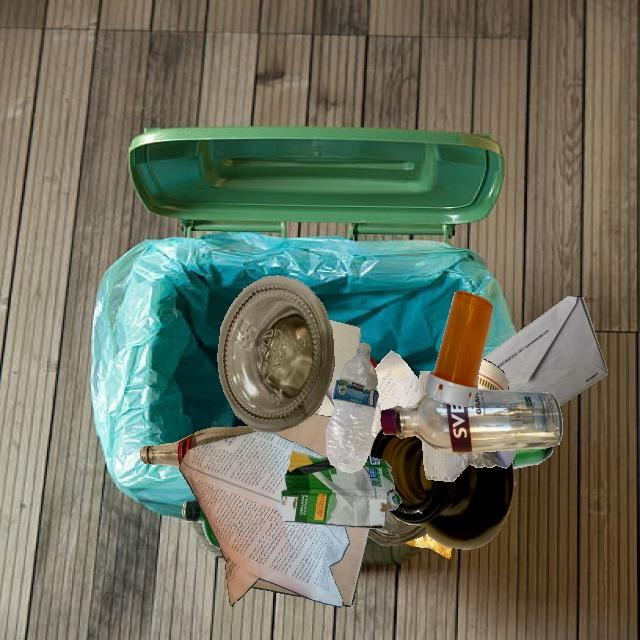biowaste: (405, 533, 452, 559)
cardboard: (281, 451, 401, 529)
glass: (217, 275, 335, 433), (370, 427, 515, 549), (381, 389, 563, 454), (140, 426, 253, 468), (368, 511, 427, 546), (182, 500, 220, 549), (512, 446, 553, 469)
metal: (253, 429, 254, 432)
paper: (179, 431, 349, 607), (256, 419, 371, 582), (483, 296, 608, 406), (313, 320, 361, 417), (371, 350, 419, 437), (422, 441, 517, 482)
plastic: (425, 290, 494, 406), (326, 342, 378, 473), (369, 357, 378, 369)
trash: (477, 358, 509, 391)
